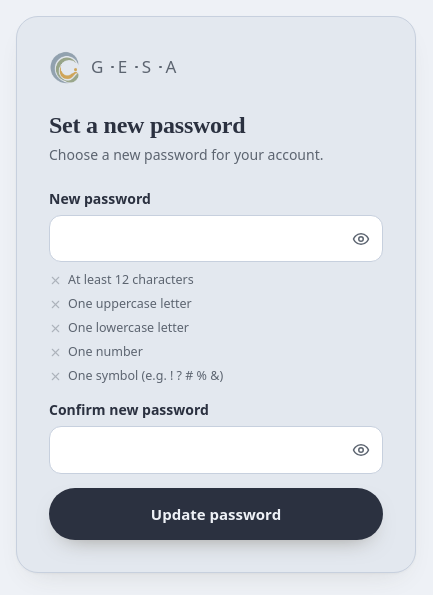
Test case: ResetPasswordPage › updates the password, revokes other sessions, and shows the confirmation state when both fields match and are strong enough
This screenshot has width=433, height=595.
Type "NewPassw0rd!23" into the password field labelled "New password".
click(216, 239); type("NewPassw0rd!23")  # box x1=49 y1=215 x2=383 y2=262
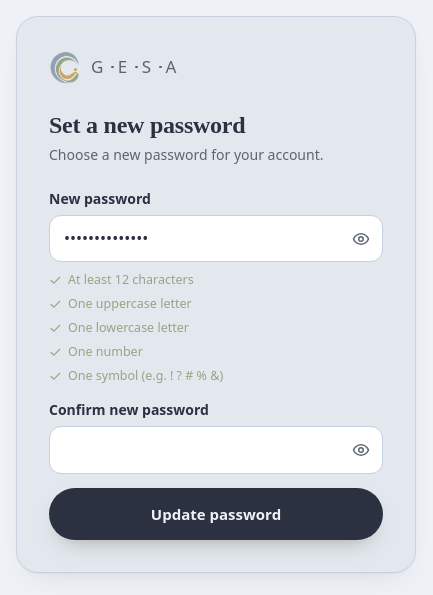
Type "NewPassw0rd!23" into the password field labelled "Confirm new password".
click(216, 450); type("NewPassw0rd!23")  # box x1=49 y1=426 x2=383 y2=474
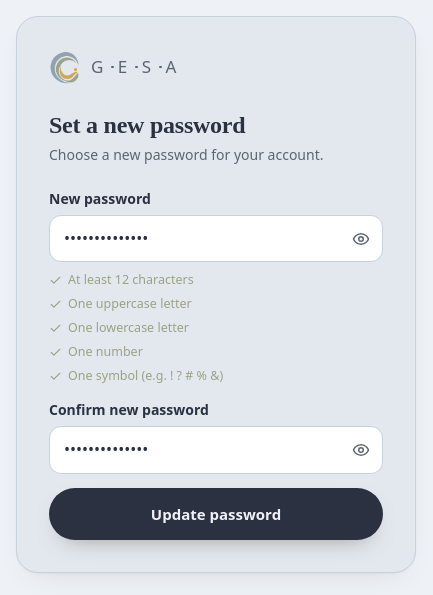
Click the button "Update password".
click(216, 514)  # box x1=49 y1=488 x2=383 y2=540
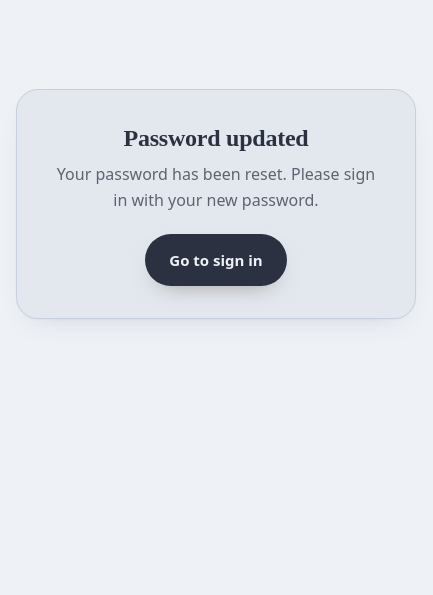
Now the heading "Password updated" is shown, box x1=124 y1=125 x2=308 y2=151
